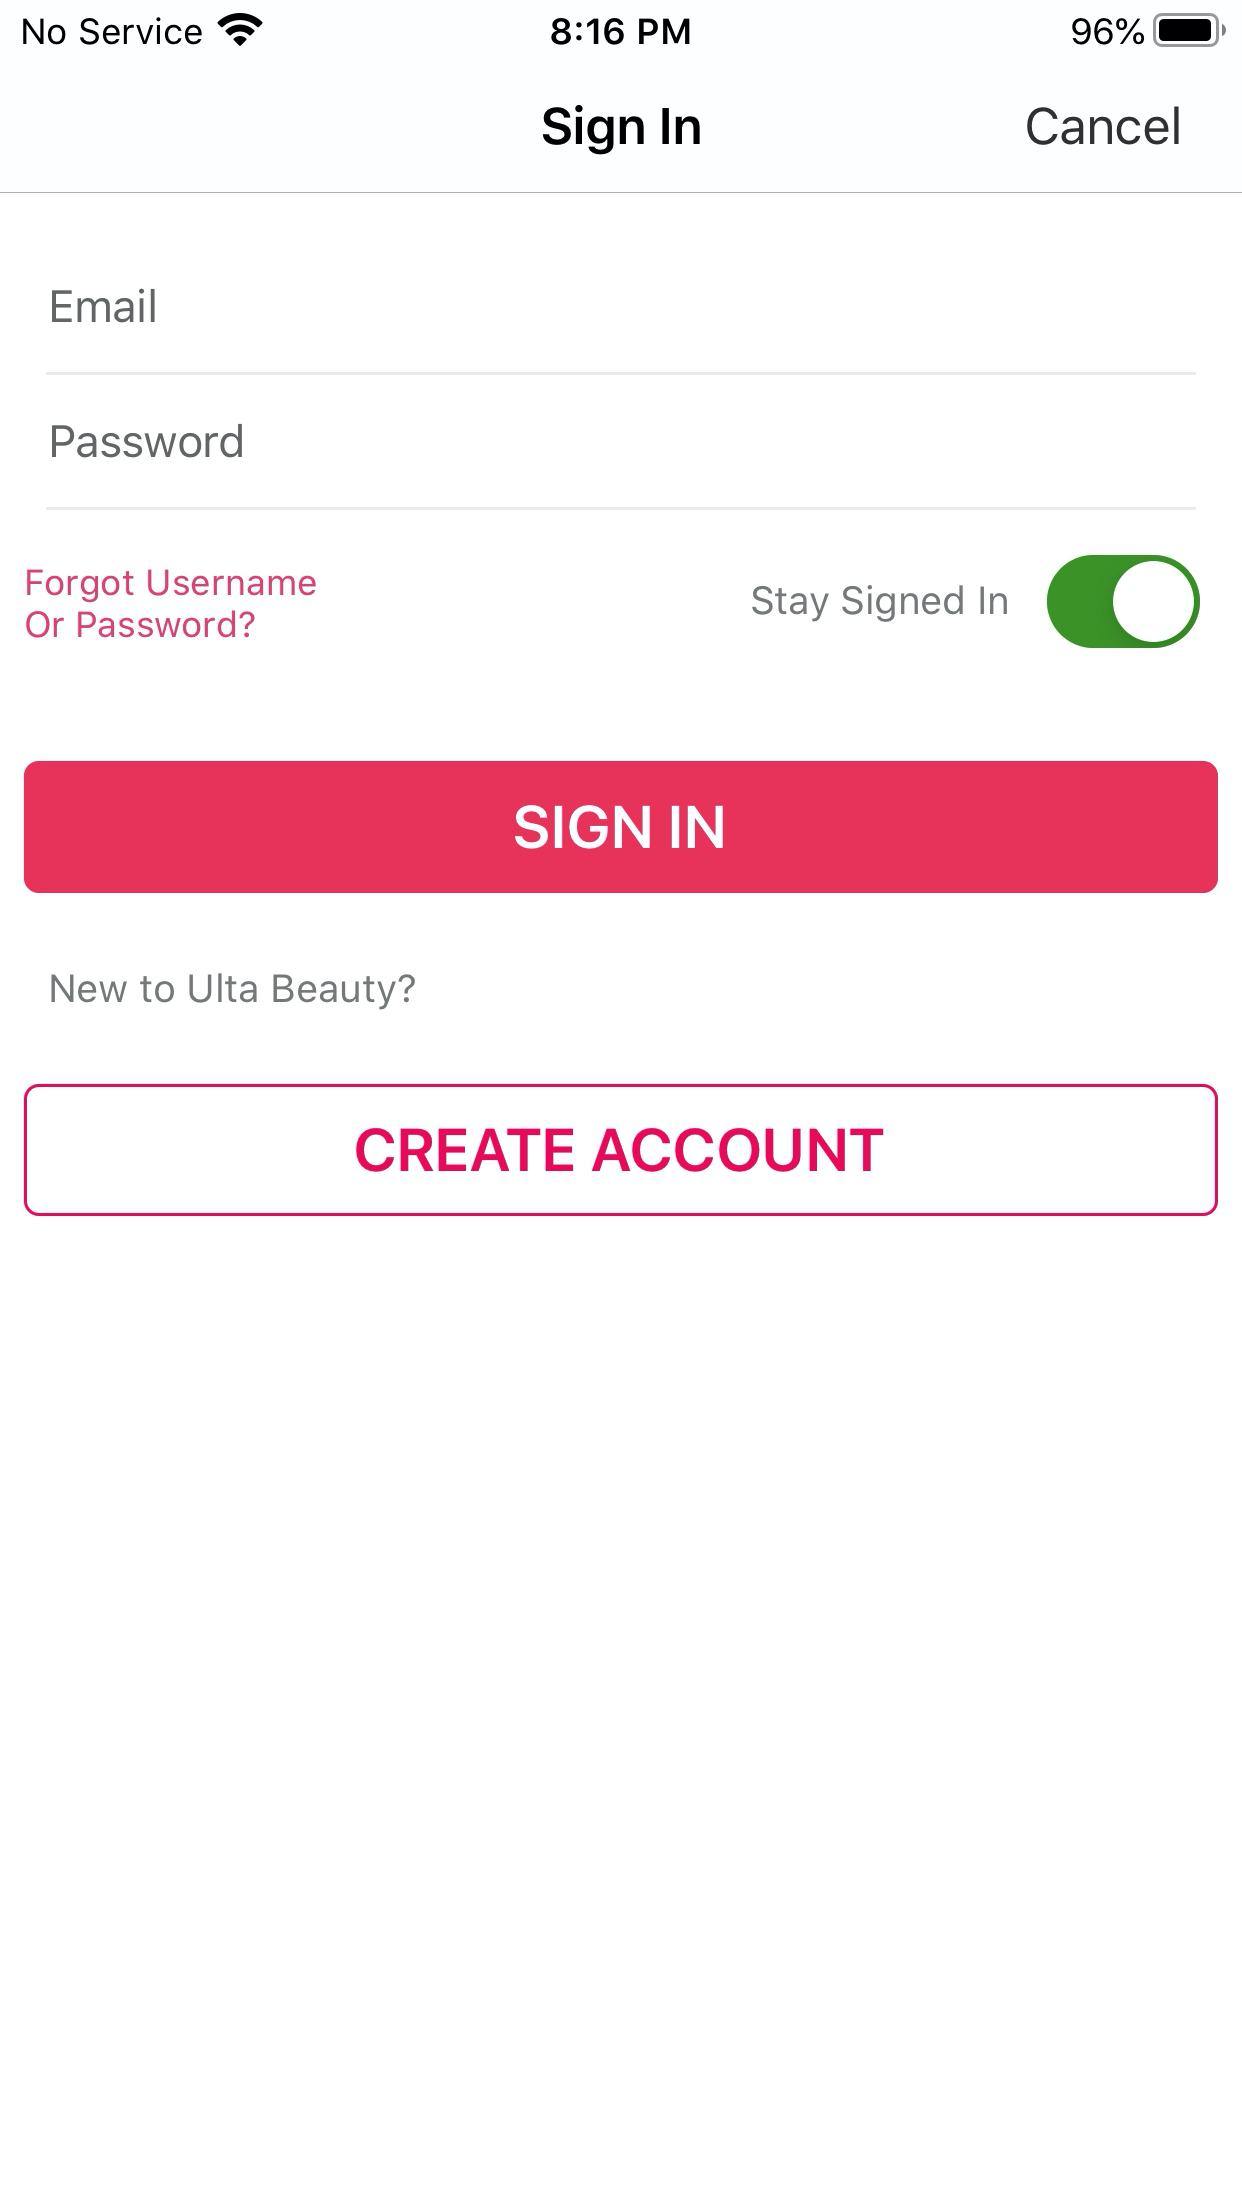EditText: (45, 423, 1197, 513), (45, 290, 1197, 378)
Remember: (752, 555, 1200, 649)
Switch: (1046, 555, 1200, 649)
Text: (26, 569, 317, 640), (52, 974, 416, 1011), (752, 585, 1007, 623), (541, 106, 701, 156), (52, 425, 244, 459), (1027, 108, 1178, 146), (52, 290, 158, 325)
TextButton: (24, 1084, 1218, 1218), (24, 761, 1218, 895)
UpperTaskBar: (2, 2, 1240, 49)
